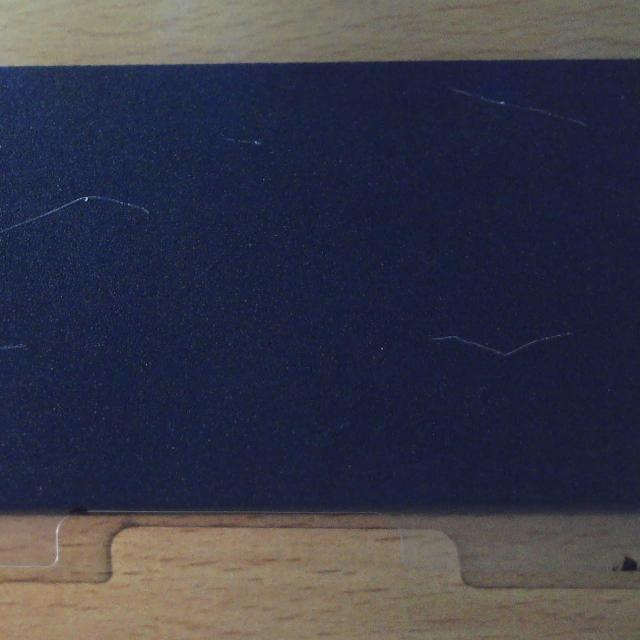defect: (427, 72, 598, 138), (0, 196, 150, 243), (429, 329, 577, 361), (215, 126, 266, 152), (0, 333, 25, 359)
